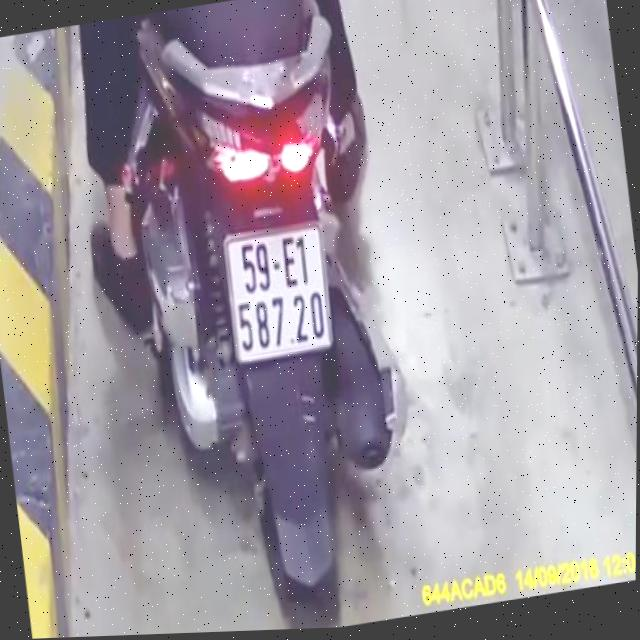motorcycle: (96, 0, 440, 636)
plate: (218, 217, 335, 365)
